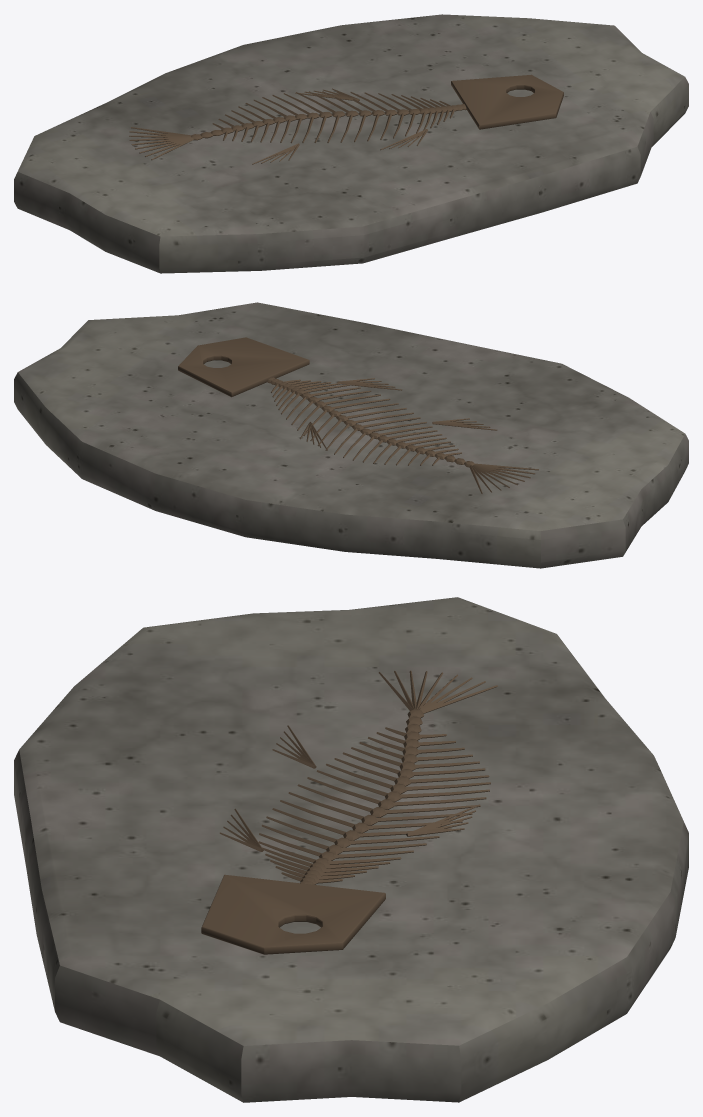
File: fish-fossil-plate.glb
3 views of the same model, one above another, from view 1: azimuth 30°, elevation 25°; view 2: azimuth 150°, elevation 25°; view 3: azimuth 270°, elevation 25° (orthographic). The views are drawn at different scales.
Parts seen in each view (by area): view 1: Fish_Fossil_Plate; view 2: Fish_Fossil_Plate; view 3: Fish_Fossil_Plate.
Boxes of the visible parts, x1,y1,x2,y2 form: Fish_Fossil_Plate: (14, 14, 688, 273); Fish_Fossil_Plate: (14, 302, 688, 568); Fish_Fossil_Plate: (14, 597, 688, 1102).
Size of the model in its own units: 0.7356 by 0.056 by 0.4626.
Materials: 2 (1 with a texture image).
